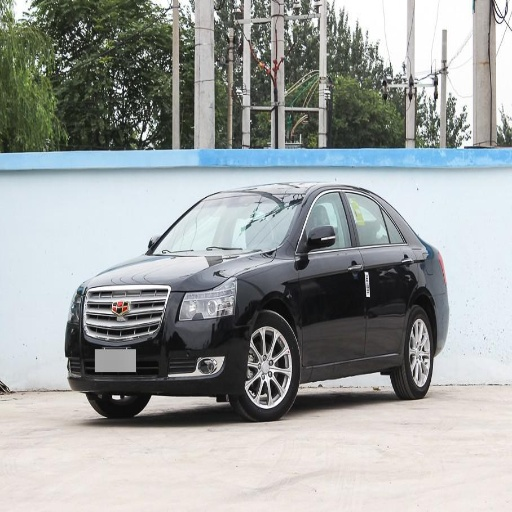front_bumper: (65, 281, 247, 394)
front_glass: (153, 192, 296, 254)
front_left_door: (296, 188, 366, 367)
